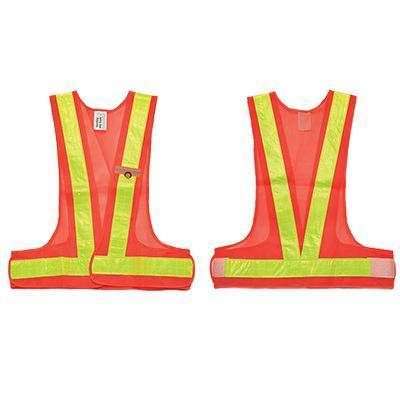vest: (9, 85, 196, 290), (207, 86, 395, 289)
